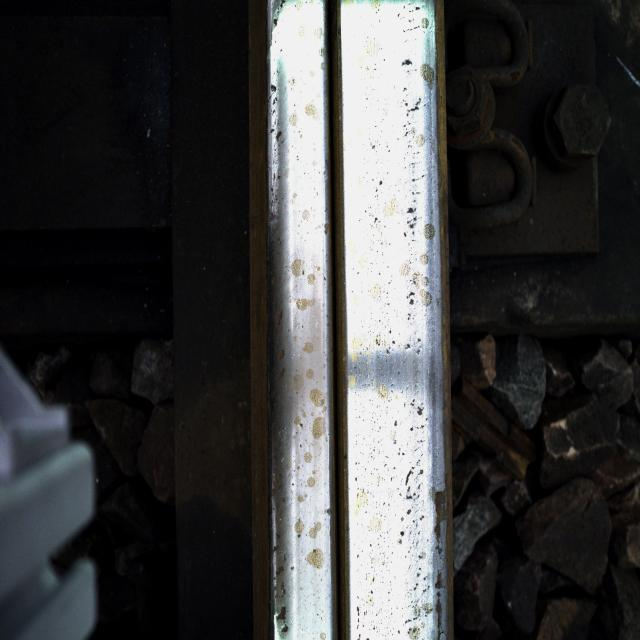scar: (358, 6, 442, 635)
